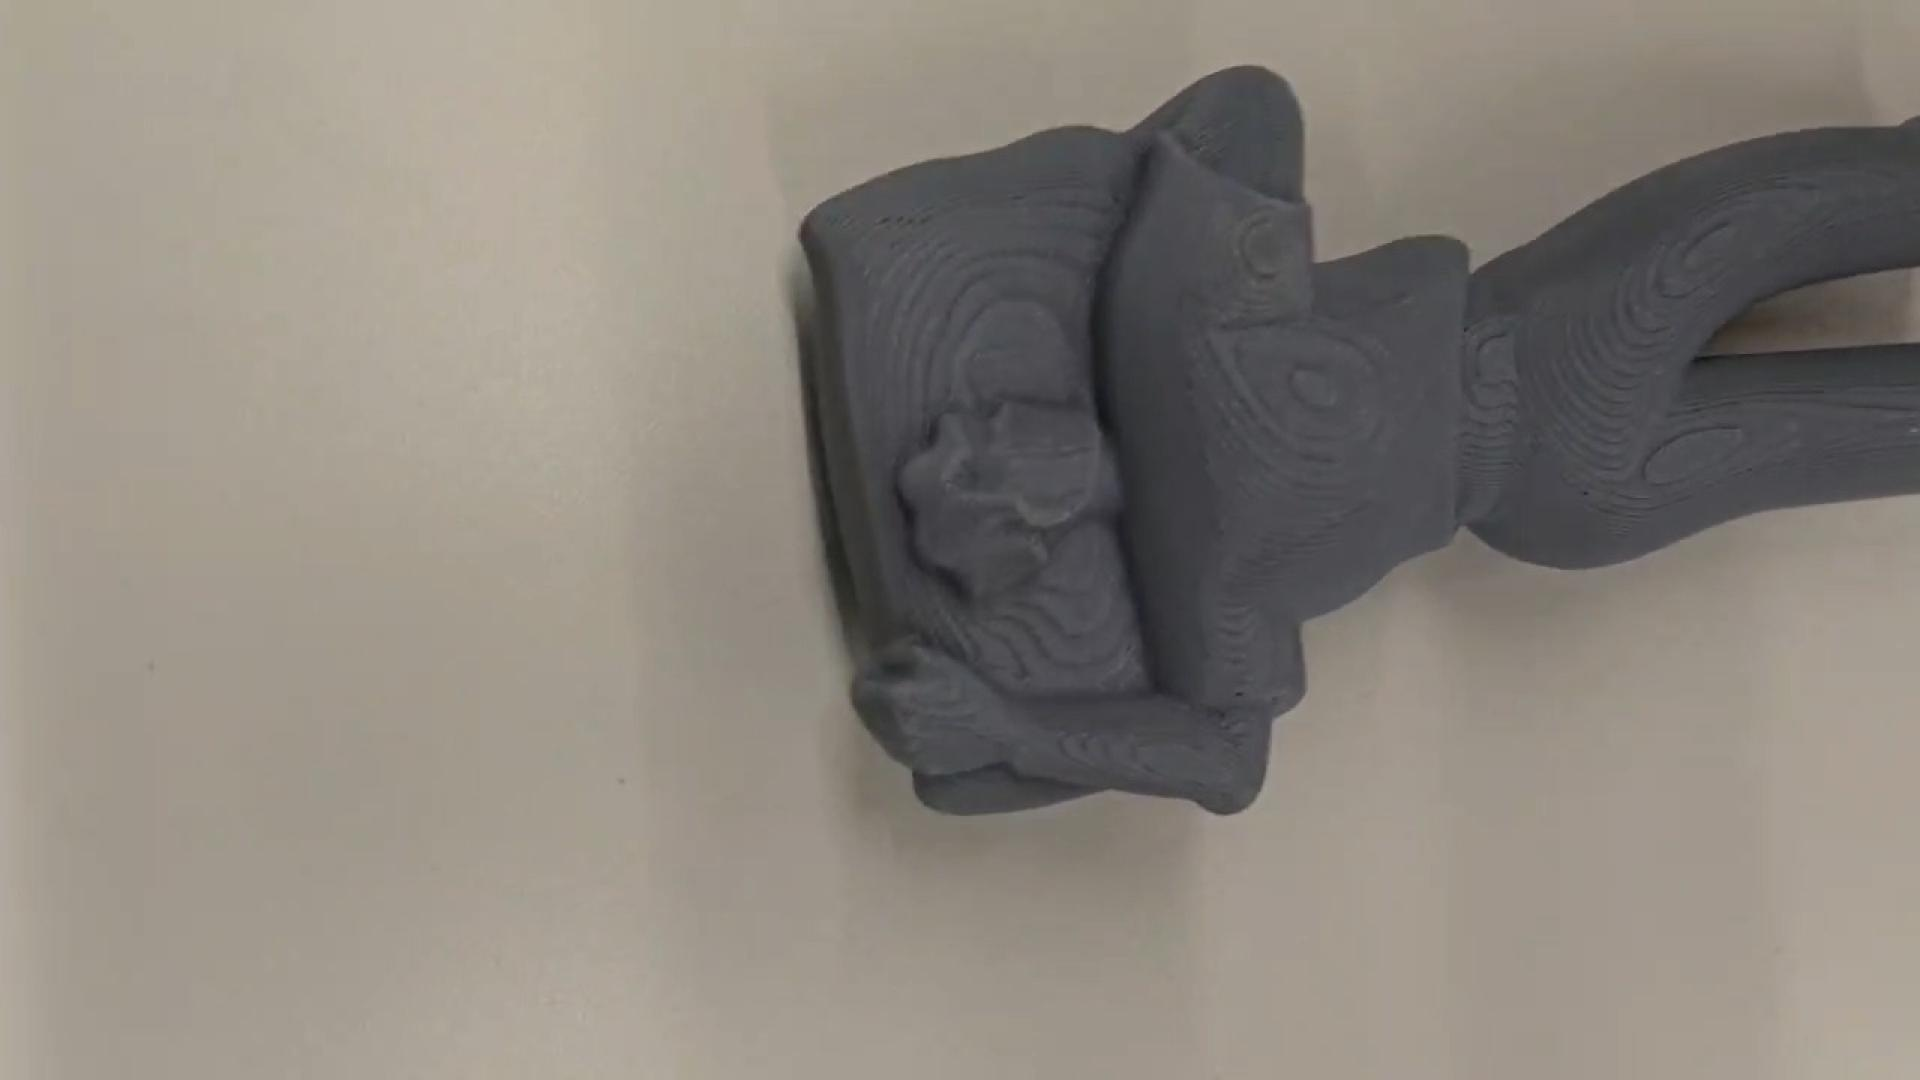Bad-style: (790, 50, 1920, 835)
